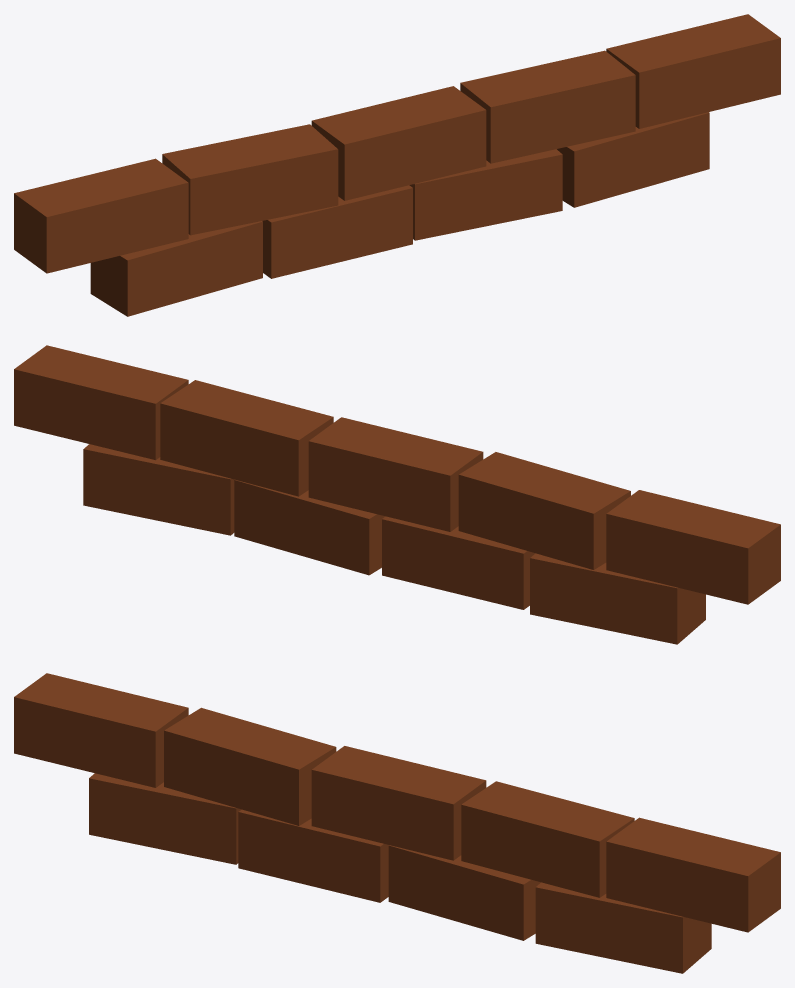
Rendered from Brick Wall.glb.
3 renders of one model, top to bottom at view 1: azimuth 30°, elevation 25°; view 2: azimuth 150°, elevation 25°; view 3: azimuth 330°, elevation 25°, orthographic.
Parts seen in each view (by area): view 1: Brick Wall; view 2: Brick Wall; view 3: Brick Wall.
Part boxes in pixels (bbox=[...]): Brick Wall: bbox=[14, 14, 780, 316]; Brick Wall: bbox=[14, 345, 780, 644]; Brick Wall: bbox=[14, 673, 780, 973].
Size of the model in its own units: 0.7876 by 0.1194 by 0.0725.
